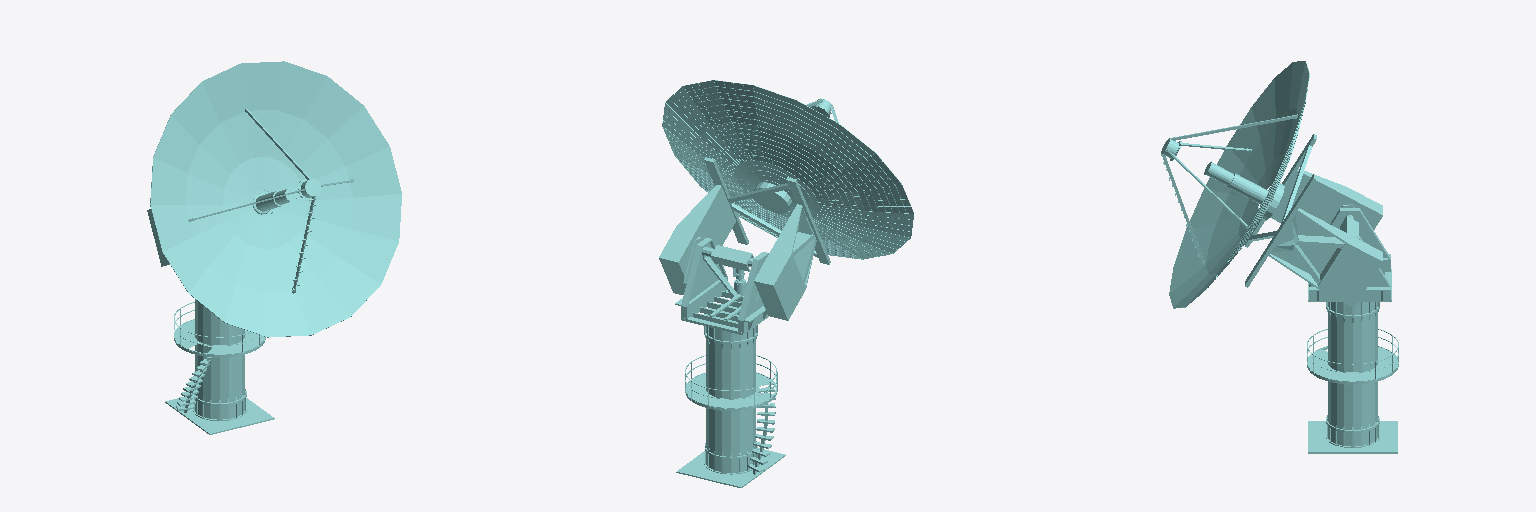
File: radar.obj
3 views of the same model, side by side, from view 1: azimuth 30°, elevation 25°; view 2: azimuth 150°, elevation 25°; view 3: azimuth 270°, elevation 25° (orthographic).
Visible parts, largest first — view 1: AM84_027_09, AM84_027_00, AM84_027_02; view 2: AM84_027_09, AM84_027_00, AM84_027_08, AM84_027_10, AM84_027_02, AM84_027_06; view 3: AM84_027_09, AM84_027_00, AM84_027_02.
Boxes of the visible parts, x1,y1,x2,y2 form: AM84_027_09: [147, 61, 401, 337]; AM84_027_00: [165, 299, 274, 434]; AM84_027_02: [175, 320, 264, 353]; AM84_027_09: [659, 80, 913, 320]; AM84_027_00: [675, 238, 785, 487]; AM84_027_08: [667, 86, 906, 256]; AM84_027_10: [662, 80, 910, 259]; AM84_027_02: [686, 373, 775, 407]; AM84_027_06: [702, 245, 763, 271]; AM84_027_09: [1161, 61, 1382, 308]; AM84_027_00: [1308, 208, 1397, 453]; AM84_027_02: [1308, 347, 1397, 380].
Size of the model in its own units: 1415454 by 2049529 by 1218427.